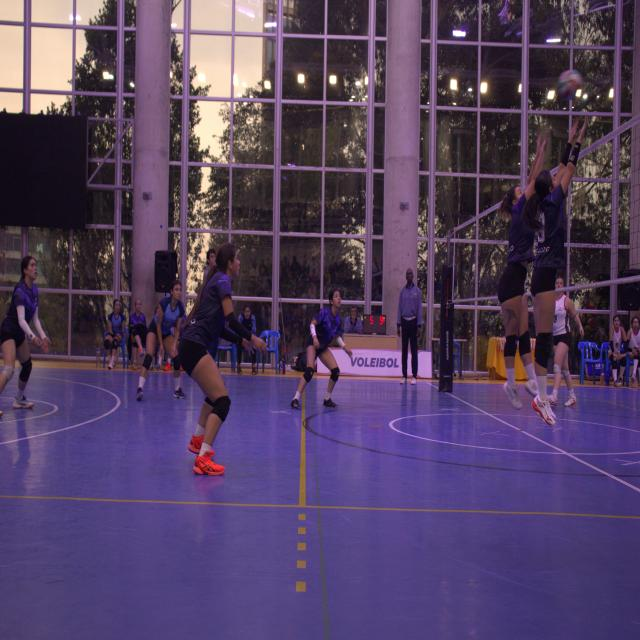volleyball: (559, 70, 582, 100)
